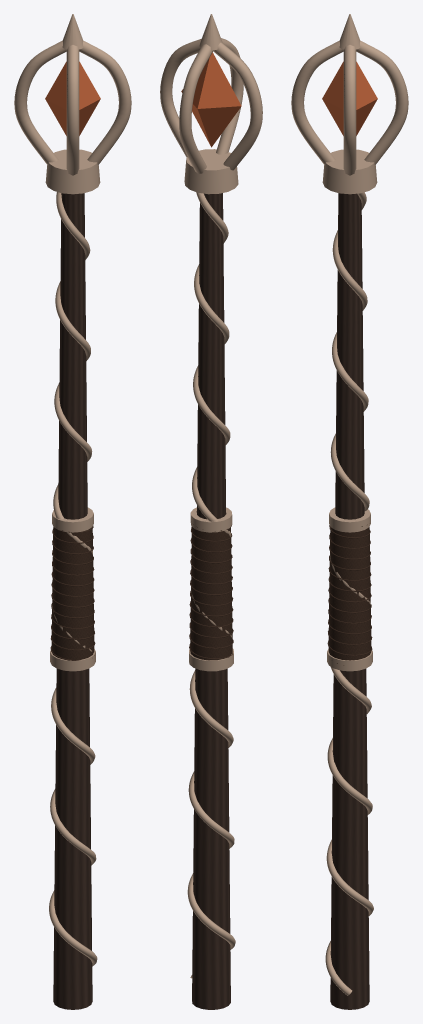
File: corealm_staff_4.glb
The picture shows the model from 3 angles, left to right: view 1: azimuth 90°, elevation 25°; view 2: azimuth 150°, elevation 25°; view 3: azimuth 270°, elevation 25°; orthographic projection.
Parts seen in each view (by area): view 1: corealm-weapon-wood, corealm-weapon-metal, corealm-weapon-leather, corealm-weapon-gem; view 2: corealm-weapon-wood, corealm-weapon-metal, corealm-weapon-leather, corealm-weapon-gem; view 3: corealm-weapon-wood, corealm-weapon-metal, corealm-weapon-leather, corealm-weapon-gem.
Boxes of the visible parts, <box> form: corealm-weapon-wood: <box>53,193,92,1009</box>; corealm-weapon-metal: <box>14,14,131,966</box>; corealm-weapon-leather: <box>50,525,95,660</box>; corealm-weapon-gem: <box>45,61,100,135</box>; corealm-weapon-wood: <box>192,193,230,1009</box>; corealm-weapon-metal: <box>160,14,262,978</box>; corealm-weapon-leather: <box>189,524,233,660</box>; corealm-weapon-gem: <box>181,52,241,147</box>; corealm-weapon-wood: <box>330,193,369,1009</box>; corealm-weapon-metal: <box>291,14,408,995</box>; corealm-weapon-leather: <box>327,524,372,665</box>; corealm-weapon-gem: <box>322,61,377,135</box>.
Size of the model in its own units: 0.1846 by 1.72 by 0.1846.
4 materials, 2 textured.
